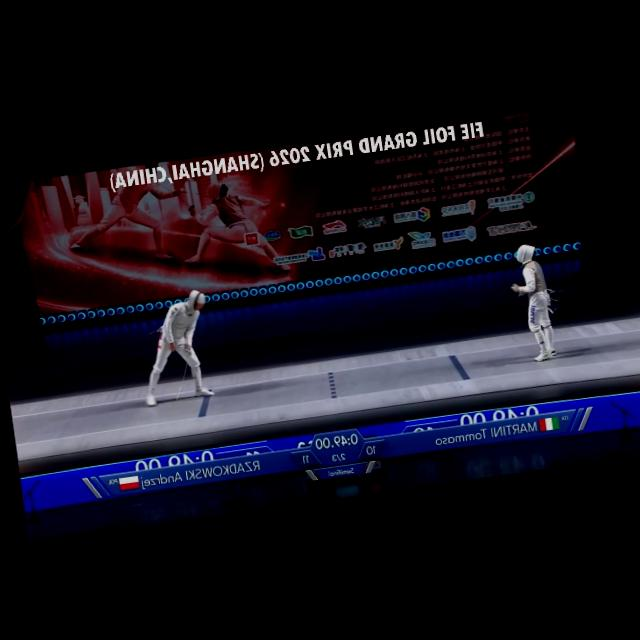blade: (164, 337, 206, 406)
